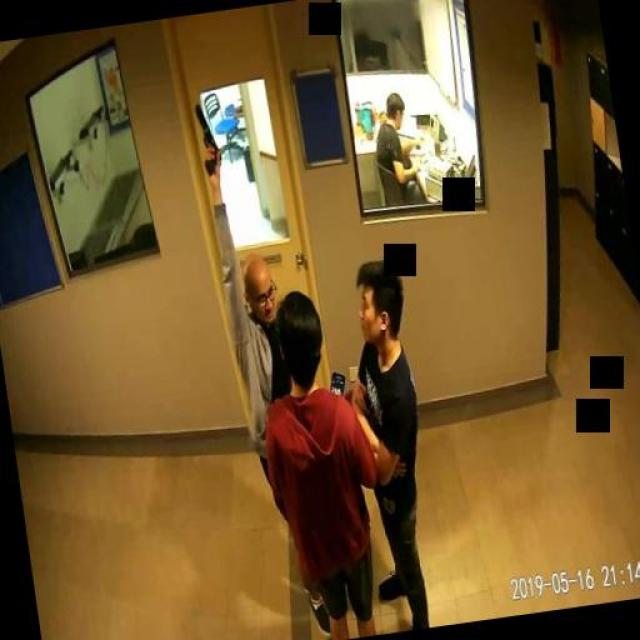gun: (192, 102, 222, 176)
